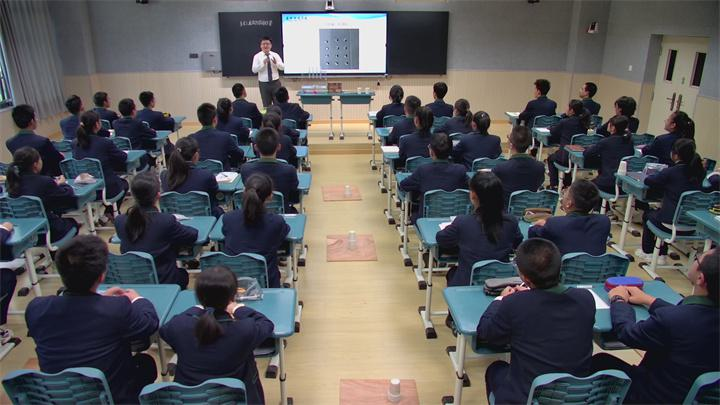listen: (30, 241, 153, 358), (607, 240, 720, 346), (171, 268, 280, 373), (494, 245, 589, 351), (114, 172, 181, 249), (454, 176, 519, 254), (10, 150, 80, 220), (546, 185, 611, 253), (225, 177, 281, 250), (653, 137, 701, 195), (8, 101, 68, 147), (411, 133, 459, 189), (651, 102, 697, 159), (192, 103, 237, 153), (129, 89, 180, 133), (76, 116, 127, 158), (247, 133, 295, 177), (507, 132, 547, 184), (168, 136, 208, 186), (551, 103, 601, 142), (104, 99, 155, 137), (593, 116, 629, 164), (572, 73, 612, 114), (464, 112, 497, 155), (523, 77, 556, 116), (276, 84, 308, 121), (429, 80, 455, 120), (381, 84, 406, 116)
